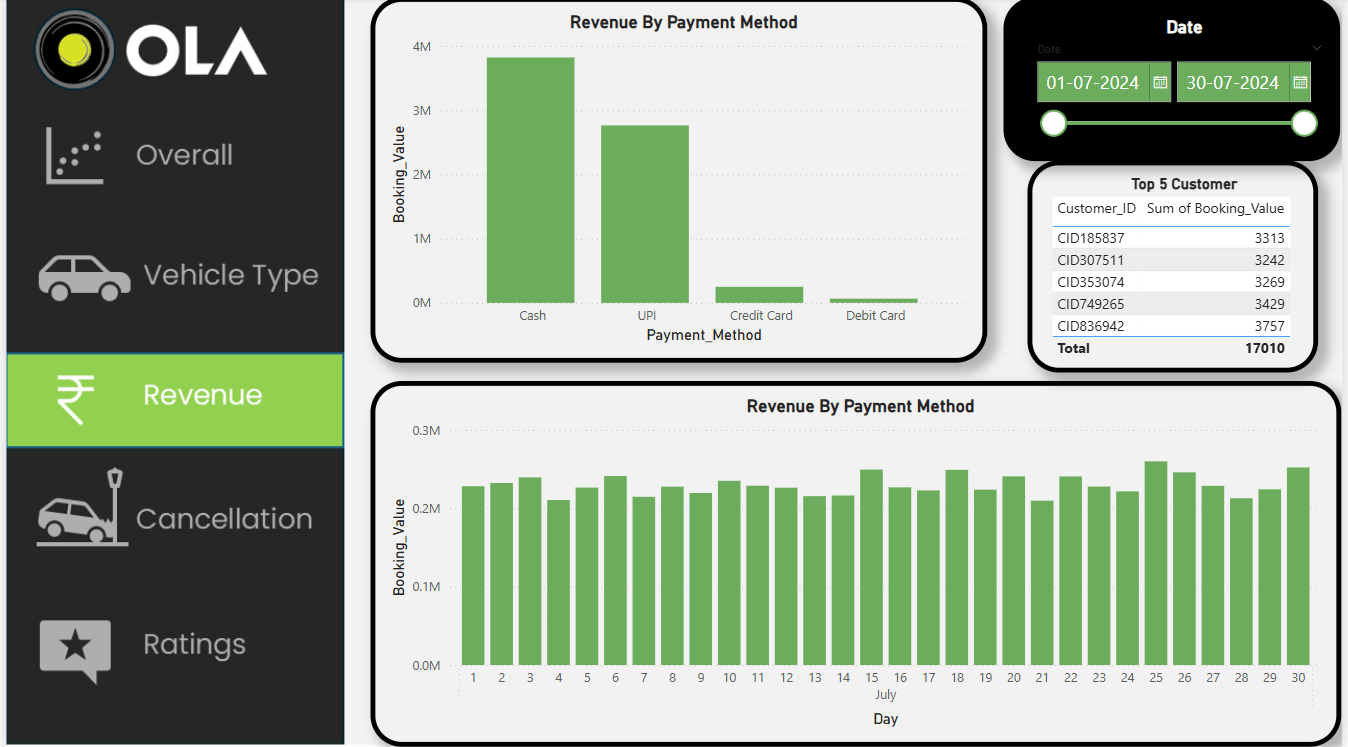

The dashboard page shown, as its layout file describes it:
{"tool":"powerbi","page":{"name":"Revenue","canvas":[1280,720],"ordinal":2},"visuals":[{"type":"actionButton","box":[0,447.3,322.1,86.3],"z":0},{"type":"columnChart","title":"Revenue By Payment Method","fields":{"Y":["Sum(Bookings (2).Booking_Value)"],"Category":["Bookings (2).Payment_Method"]},"box":[348.9,0,591.4,350.6],"z":1000},{"type":"columnChart","title":"Revenue By Payment Method","fields":{"Y":["Sum(Bookings (2).Booking_Value)"],"Category":["Bookings (2).Date.Variation.Date Hierarchy.Month","Bookings (2).Date.Variation.Date Hierarchy.Day"]},"box":[348.9,368.6,930.5,350.6],"z":2000},{"type":"slicer","title":"Date","fields":{"Values":["Bookings (2).Date"]},"box":[956.7,0,322.7,157.3],"z":3000},{"type":"tableEx","title":"Top 5 Customer","fields":{"Values":["Bookings (2).Customer_ID","Sum(Bookings (2).Booking_Value)"]},"box":[979.7,157.3,278.5,203.1],"z":4000}]}

Visuals, with their boxes in screenshot pixels (x1, y1, x2, y2), scaled from the page's 1280x720 canvas onto the 1348x747 screenshot:
actionButton: bbox(0, 464, 339, 554)
"Revenue By Payment Method" columnChart: bbox(367, 0, 990, 364)
"Revenue By Payment Method" columnChart: bbox(367, 382, 1347, 746)
"Date" slicer: bbox(1008, 0, 1347, 163)
"Top 5 Customer" tableEx: bbox(1032, 163, 1325, 374)
